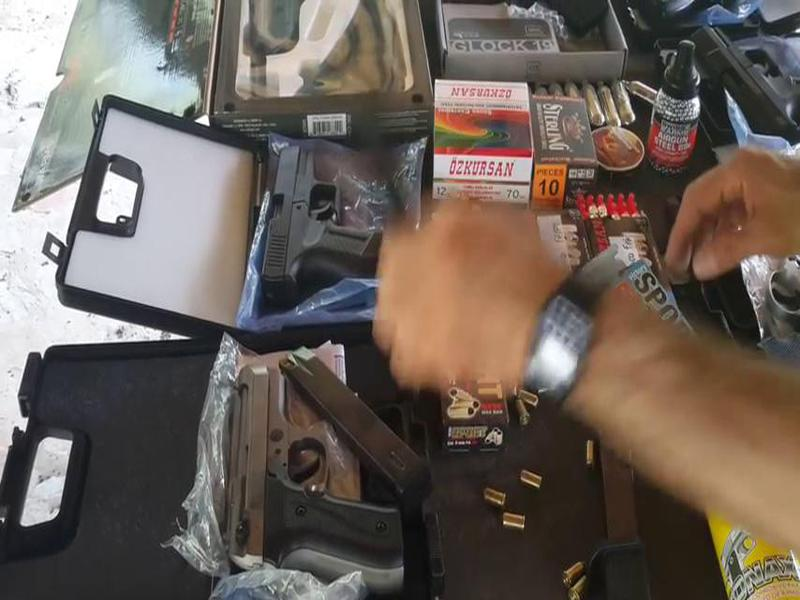Pistola: (201, 337, 424, 594), (238, 124, 389, 314)
